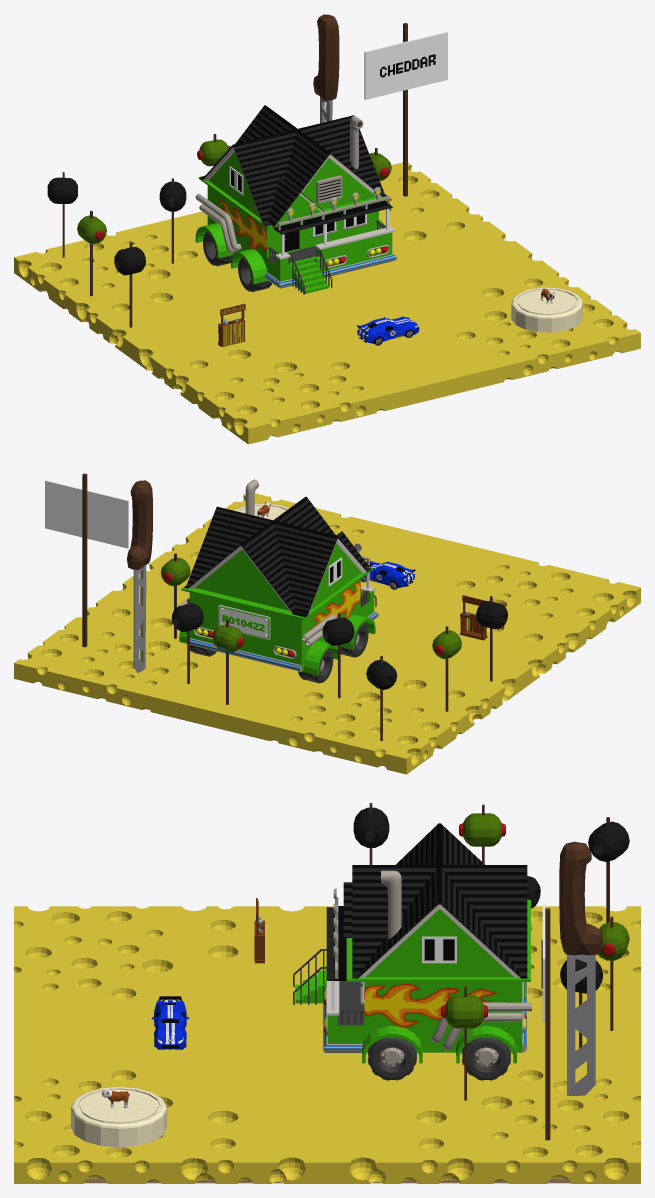
The picture shows the model from 3 angles, top to bottom: view 1: azimuth 30°, elevation 25°; view 2: azimuth 150°, elevation 25°; view 3: azimuth 270°, elevation 25°; orthographic projection. The views are drawn at different scales.
Visible parts, largest first — view 1: Cube.022, Cube.1474, Cube.023, Cylinder.016, Cube.024, VEHICLES_RACING_CAR, Sphere.017, OBJRANDOM_LEMONADE_STAND, Sphere.016, Sphere.020, Sphere.018, Sphere.022; view 2: Cube.022, Cube.1474, Cube.023, Cube.024, VEHICLES_RACING_CAR, Sphere.017, Sphere.020, Sphere.021, Sphere.016, Sphere.018, Sphere.022, Sphere.019 (+1 smaller); view 3: Cube.022, Cube.1474, Cube.024, Cylinder.016, Cube.023, VEHICLES_RACING_CAR, Sphere.019, Sphere.016, Sphere.018, Sphere.017, Sphere.022, Sphere.021 (+2 smaller).
Boxes of the visible parts, bbox=[...] form: Cube.022: bbox=[14, 162, 640, 444]; Cube.1474: bbox=[195, 105, 396, 294]; Cube.023: bbox=[364, 23, 447, 196]; Cylinder.016: bbox=[511, 287, 582, 332]; Cube.024: bbox=[313, 14, 339, 123]; VEHICLES_RACING_CAR: bbox=[357, 316, 419, 345]; Sphere.017: bbox=[114, 242, 145, 327]; OBJRANDOM_LEMONADE_STAND: bbox=[218, 303, 245, 346]; Sphere.016: bbox=[47, 172, 77, 257]; Sphere.020: bbox=[159, 178, 186, 263]; Sphere.018: bbox=[77, 210, 106, 296]; Sphere.022: bbox=[197, 134, 230, 166]; Cube.022: bbox=[14, 493, 640, 774]; Cube.1474: bbox=[177, 479, 378, 683]; Cube.023: bbox=[45, 473, 128, 647]; Cube.024: bbox=[127, 480, 152, 672]; VEHICLES_RACING_CAR: bbox=[360, 561, 415, 589]; Sphere.017: bbox=[476, 596, 507, 681]; Sphere.020: bbox=[322, 612, 354, 698]; Sphere.021: bbox=[171, 598, 203, 683]; Sphere.016: bbox=[366, 655, 397, 741]; Sphere.018: bbox=[432, 626, 461, 711]; Sphere.022: bbox=[212, 619, 244, 704]; Sphere.019: bbox=[160, 553, 190, 638]; Cube.022: bbox=[14, 906, 640, 1183]; Cube.1474: bbox=[293, 823, 531, 1080]; Cube.024: bbox=[559, 841, 602, 1095]; Cylinder.016: bbox=[71, 1086, 167, 1147]; Cube.023: bbox=[541, 904, 550, 1140]; VEHICLES_RACING_CAR: bbox=[151, 996, 188, 1049]; Sphere.019: bbox=[441, 986, 487, 1100]; Sphere.016: bbox=[588, 817, 629, 922]; Sphere.018: bbox=[459, 804, 505, 863]; Sphere.017: bbox=[353, 803, 389, 864]; Sphere.022: bbox=[598, 916, 629, 1030]; Sphere.021: bbox=[560, 959, 602, 1048].
Bounding box in the file's own units: 3917 × 1957 × 4000.
Materials: 45 (5 with a texture image).
